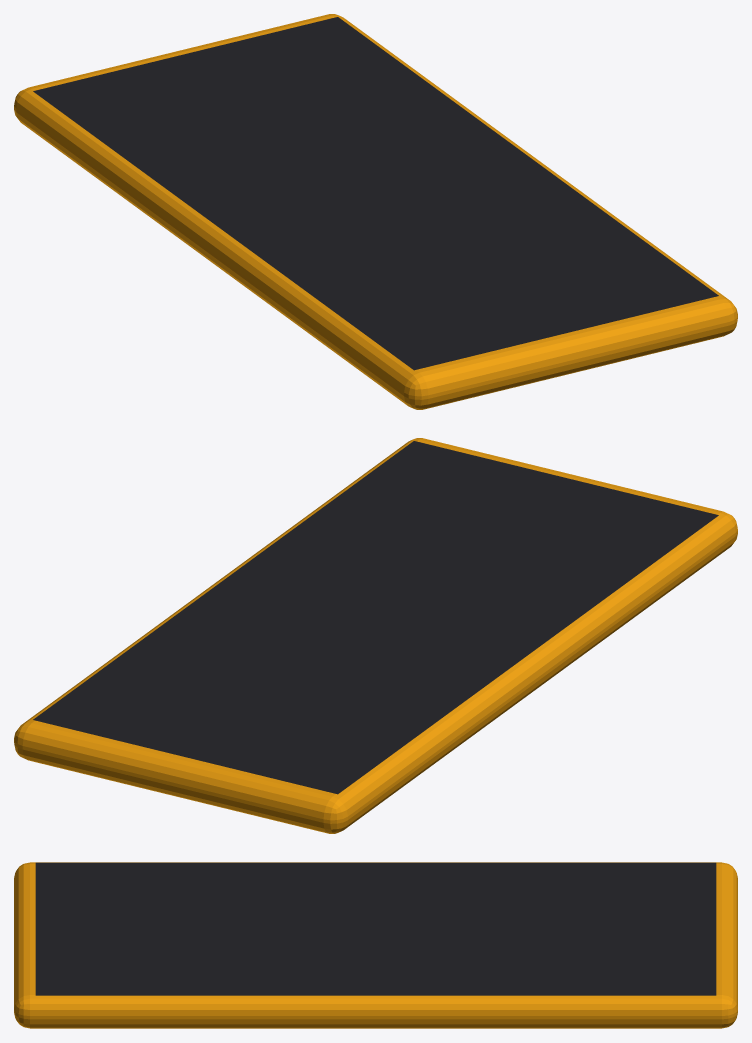
The model's file is Phone_218.glb.
The picture shows the model from 3 angles, top to bottom: view 1: azimuth 30°, elevation 25°; view 2: azimuth 150°, elevation 25°; view 3: azimuth 270°, elevation 25°; orthographic projection. The views are drawn at different scales.
Parts seen in each view (by area): view 1: Phone_Screen, Phone_Body; view 2: Phone_Screen, Phone_Body; view 3: Phone_Screen, Phone_Body.
Boxes of the visible parts, x1,y1,x2,y2 form: Phone_Screen: (33, 17, 718, 370); Phone_Body: (14, 14, 737, 409); Phone_Screen: (33, 441, 718, 794); Phone_Body: (14, 438, 737, 833); Phone_Screen: (35, 862, 716, 995); Phone_Body: (14, 862, 737, 1028).
Size of the model in its own units: 0.0755 by 0.0079 by 0.1599.
